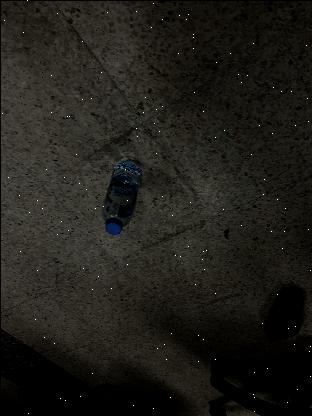Plastic Bottle: (101, 156, 139, 234)
